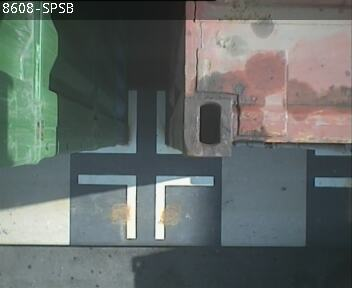groundmarker_1: (77, 174, 212, 240), (75, 90, 180, 153)
